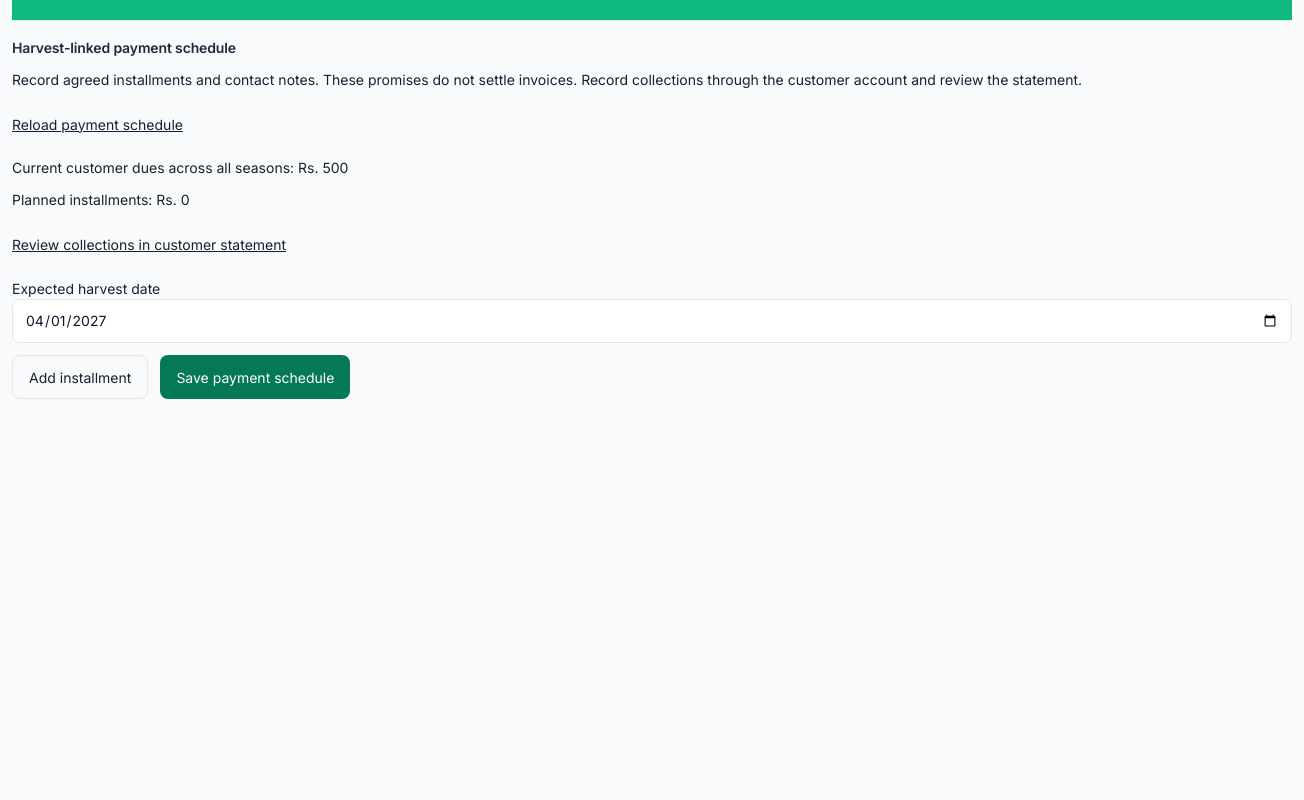
Test case: saves a versioned promise without invoking a payment endpoint
Expected: the date field showing "2027-04-01" is shown, [12, 299, 1292, 343]
Click the button "Add installment" at x=80, y=377, box [12, 355, 148, 399]
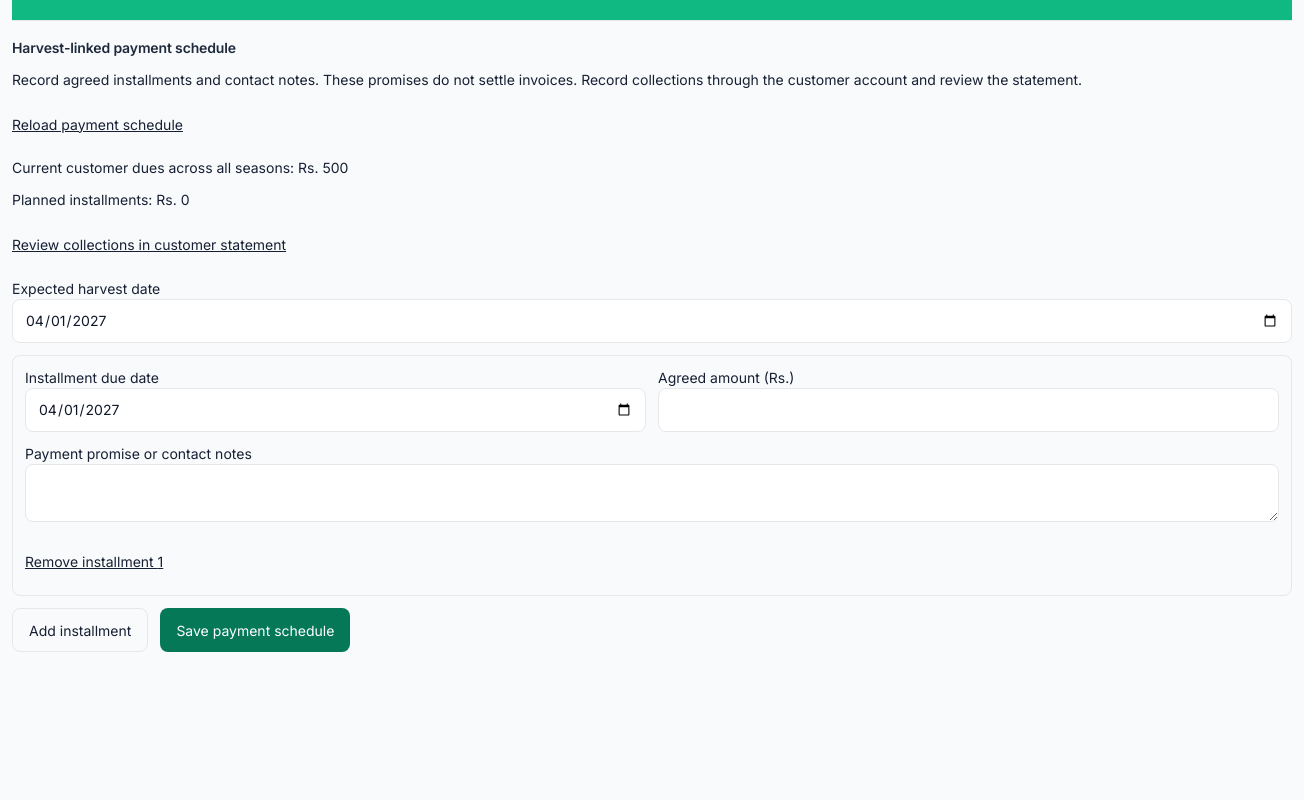
Type "500" into the number field labelled "Agreed amount (Rs.)" at x=968, y=410, box [658, 388, 1279, 432]
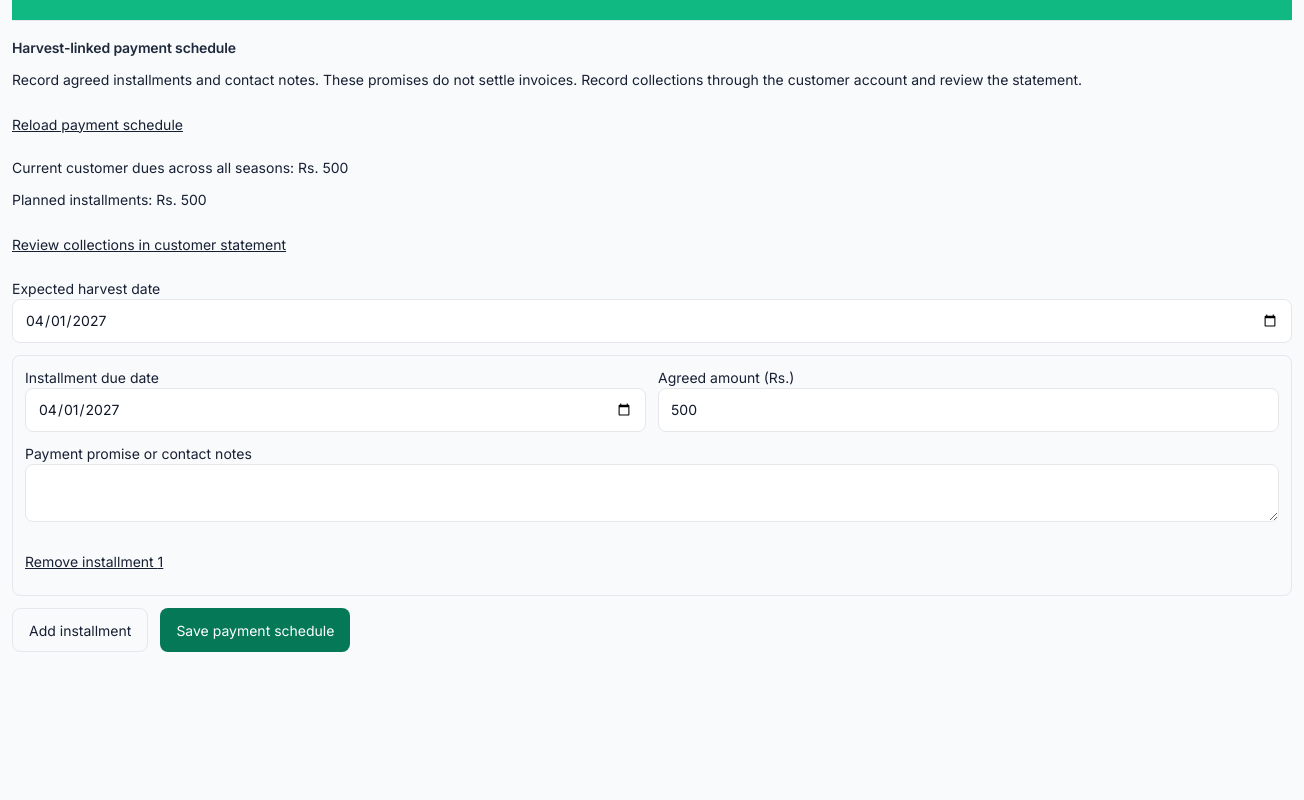
Click the button "Save payment schedule" at x=255, y=630, box [160, 608, 350, 652]
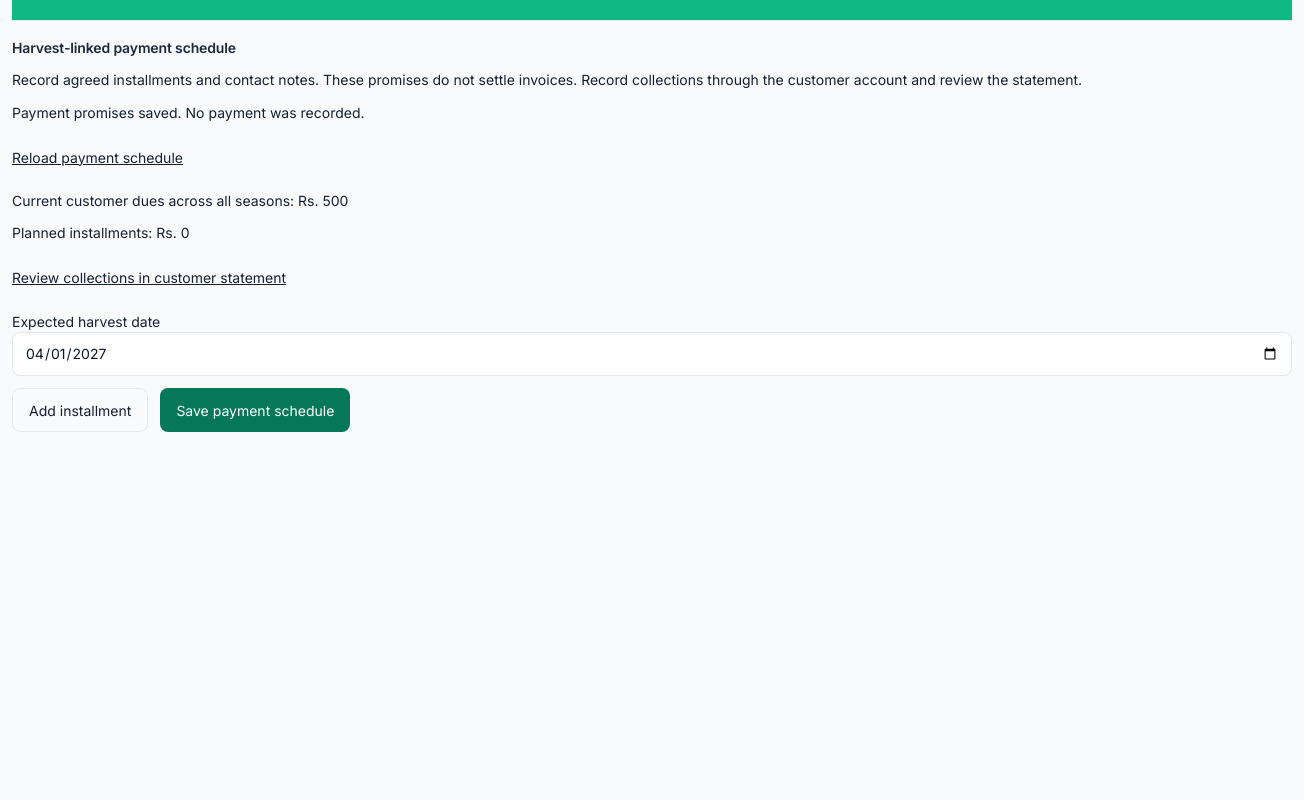
Expected: the text "Payment promises saved. No payment was recorded." is shown, [12, 104, 364, 121]
